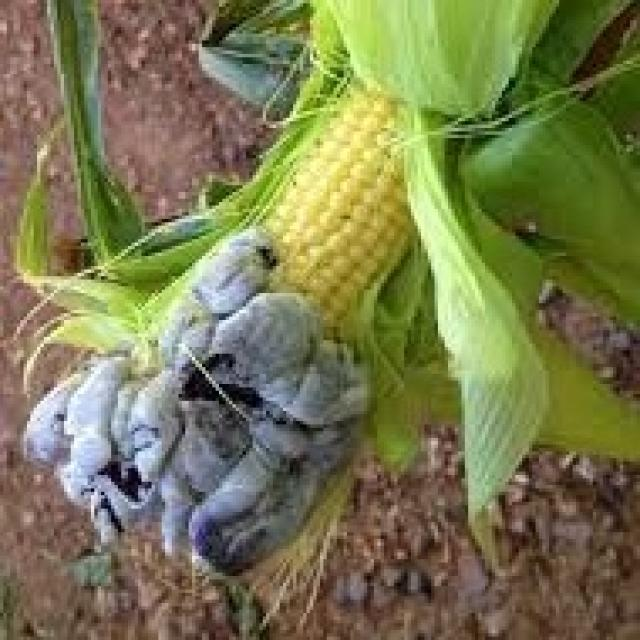Leaf_Scald: (0, 58, 593, 572)
